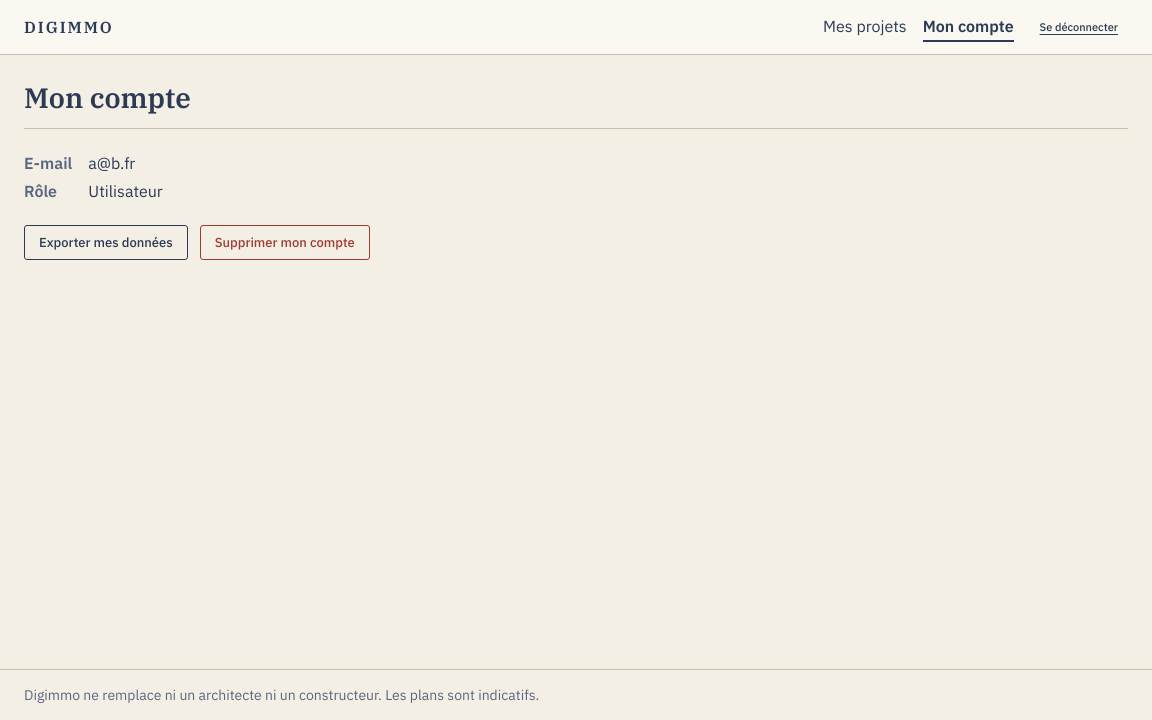
Test: mon compte › suppression : bon mot de passe => DELETE { password } puis accueil avec message
The image size is (1152, 720).
Step 1. Click the button "Supprimer mon compte" → [285, 242], box [200,225,370,260]
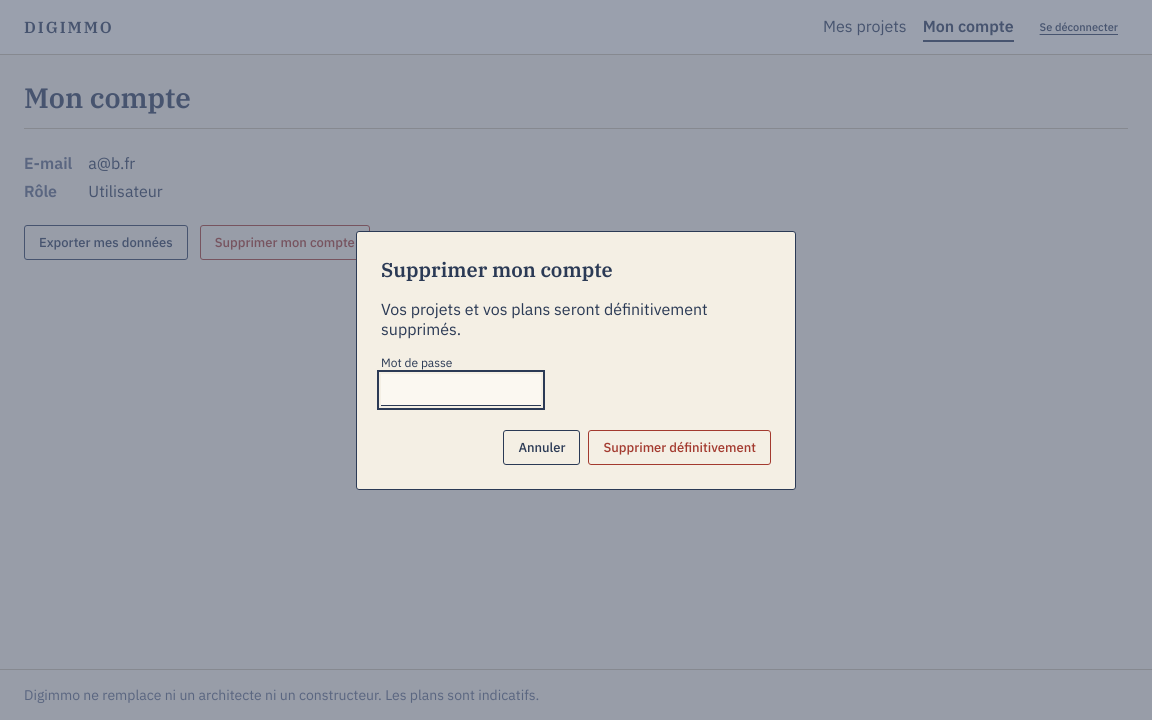
Step 2. Type "secret123" into the password field labelled "Mot de passe" → [461, 390], box [381,374,541,406]
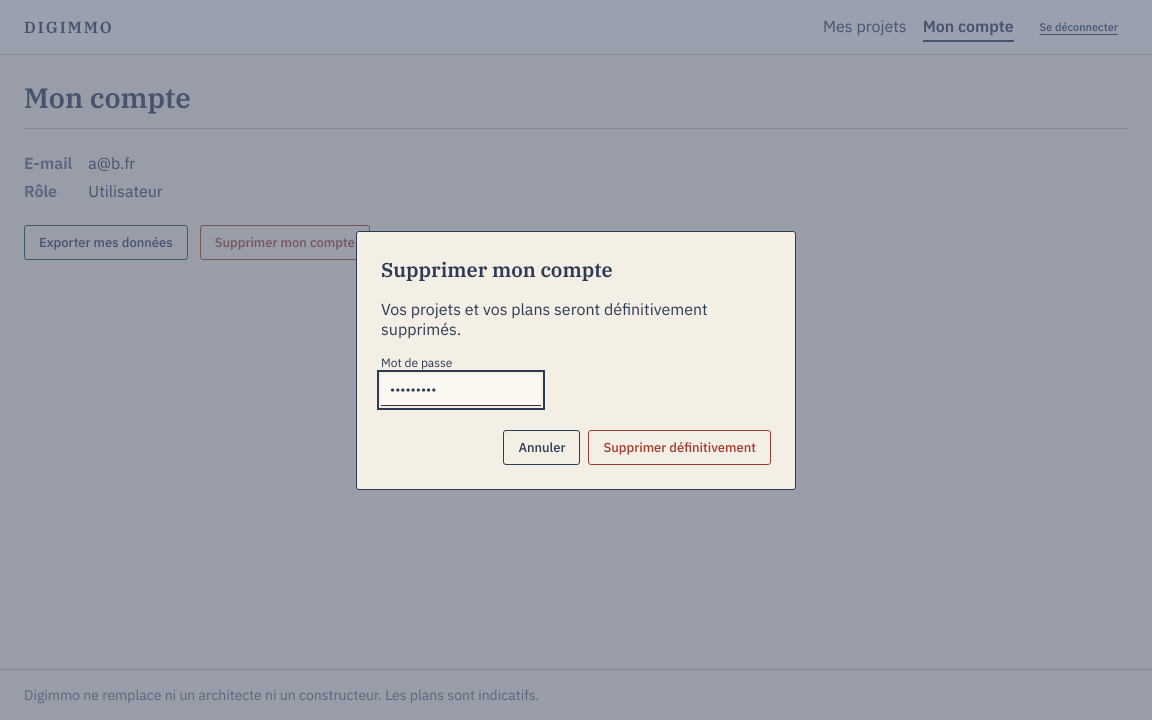
Step 3. Click the button "Supprimer définitivement" → [680, 447], box [588,430,771,464]
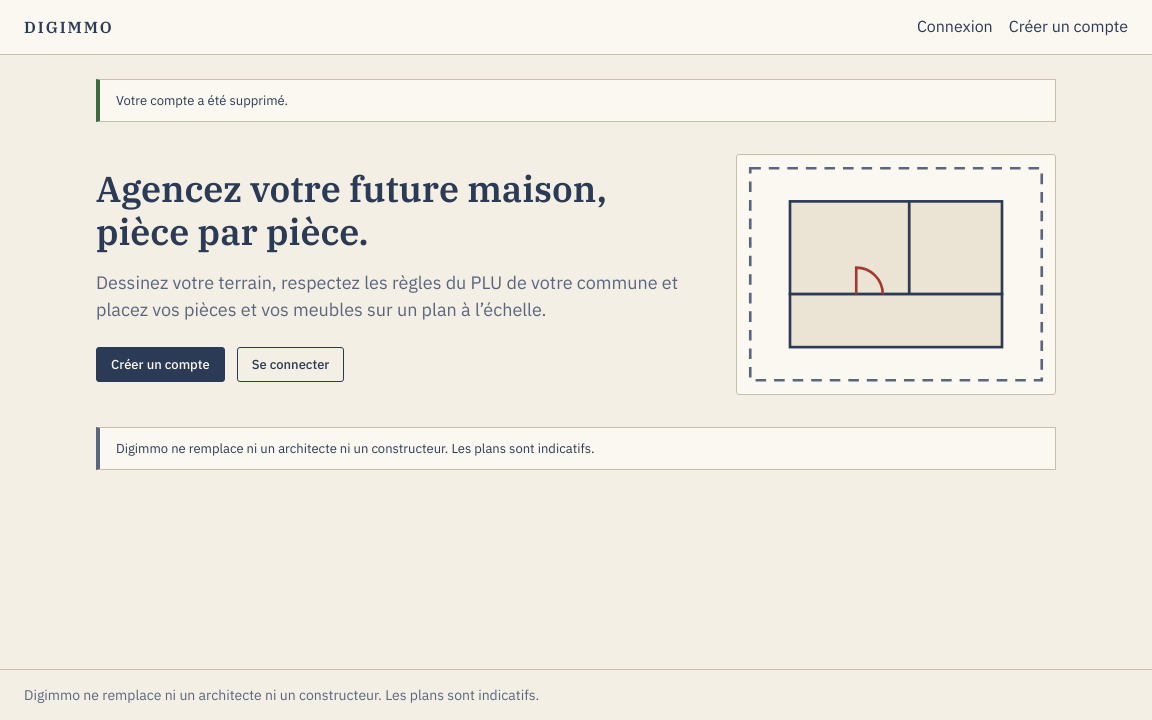
Expected: the text "Votre compte a été supprimé." is shown, [116,92,288,109]
Expected: the link "Connexion" is shown, [917,12,993,42]
Expected: the button "Se déconnecter" is gone
